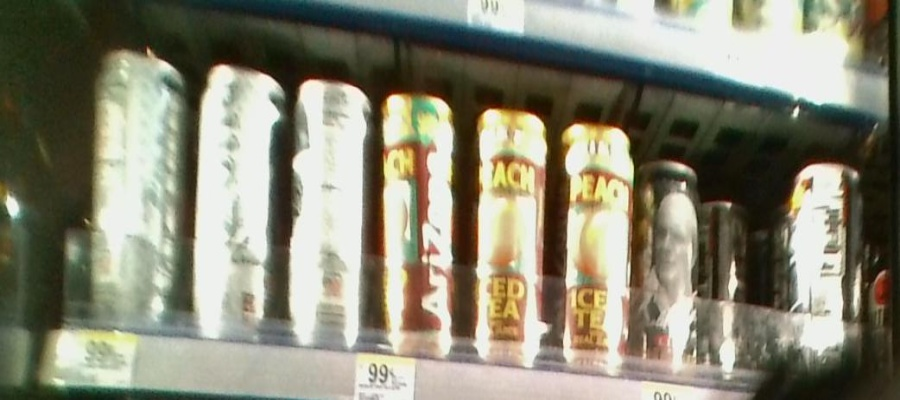bottle: (87, 42, 188, 341), (194, 54, 287, 350), (376, 77, 460, 376), (294, 59, 375, 366), (468, 96, 551, 371), (558, 113, 637, 379), (786, 154, 865, 376), (640, 156, 703, 376), (704, 177, 751, 384)
